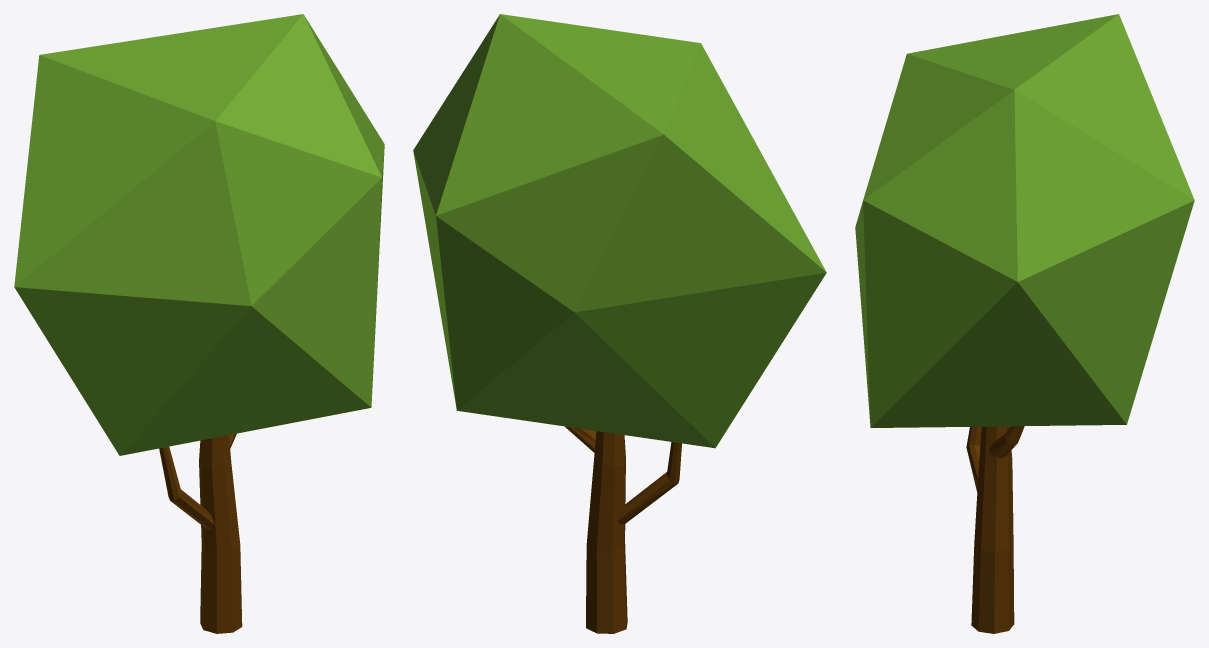
The model's file is Tree15.fbx.
The picture shows the model from 3 angles, left to right: view 1: azimuth 30°, elevation 25°; view 2: azimuth 150°, elevation 25°; view 3: azimuth 270°, elevation 25°; orthographic projection. The views are drawn at different scales.
Parts seen in each view (by area): view 1: Plane_346.001; view 2: Plane_346.001; view 3: Plane_346.001.
Boxes of the visible parts, box(x1,y1,x2,y2) form: Plane_346.001: box(14, 14, 384, 633); Plane_346.001: box(413, 14, 826, 633); Plane_346.001: box(855, 14, 1194, 633).
Bounding box in the file's own units: 330 × 474 × 251.
